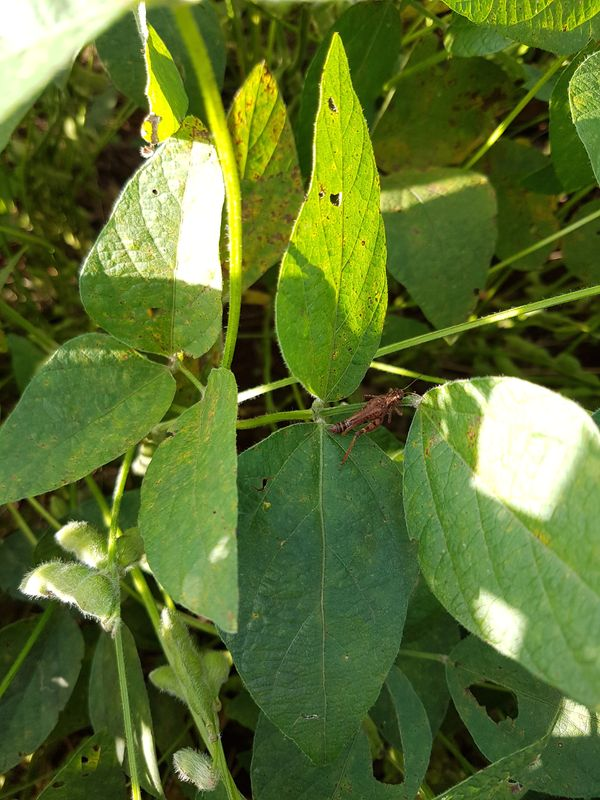Rhammatocerus_schistocercoides: (310, 369, 430, 469)
